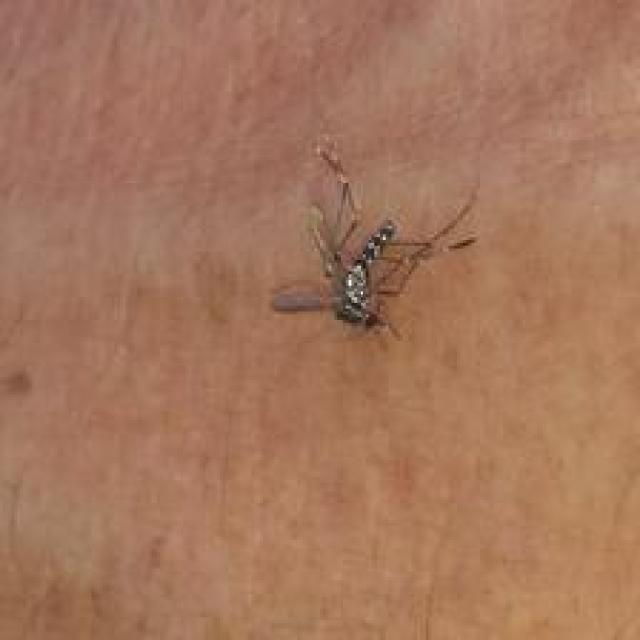Aedes albopictus: (269, 137, 480, 343)
